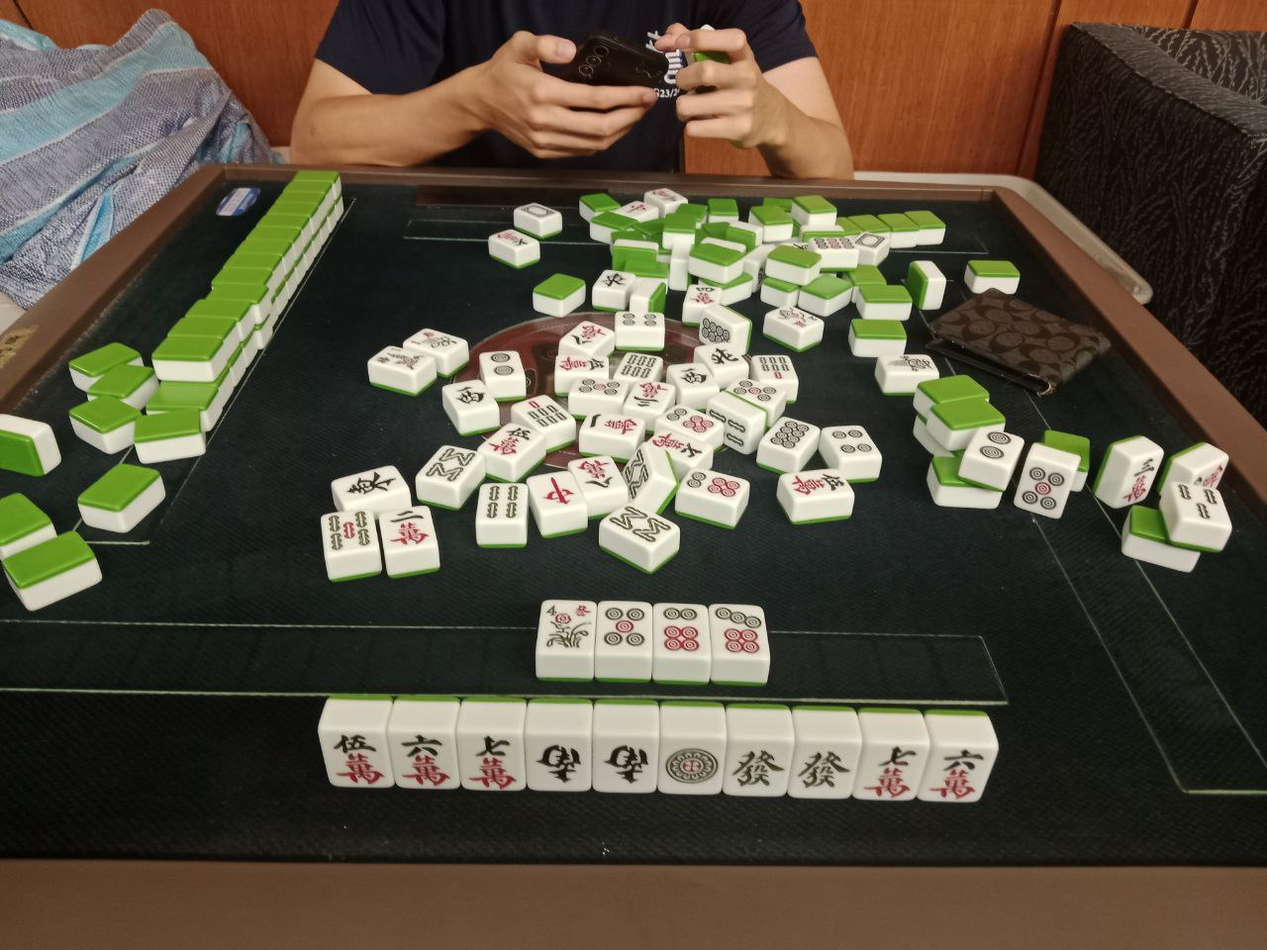TILE: (456, 729, 528, 791), (318, 729, 396, 786), (792, 736, 861, 798), (389, 729, 462, 787), (927, 743, 997, 803), (858, 740, 925, 801), (727, 737, 793, 796), (528, 731, 591, 792), (658, 736, 724, 794), (593, 733, 658, 791), (652, 600, 711, 656), (533, 601, 595, 654), (710, 603, 769, 656), (596, 600, 651, 654)
